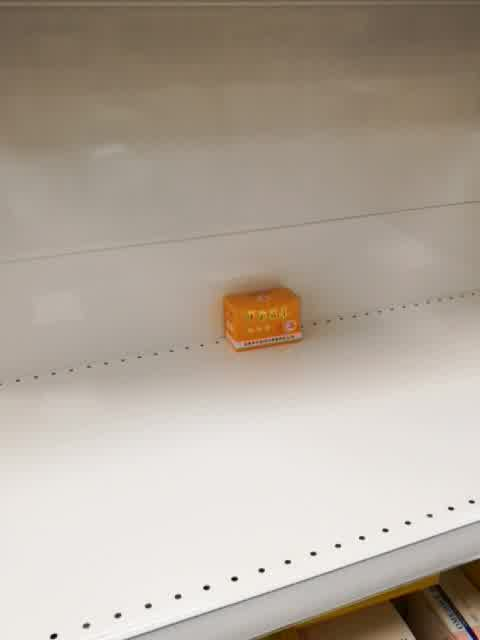jasminetea: (221, 284, 305, 353)
